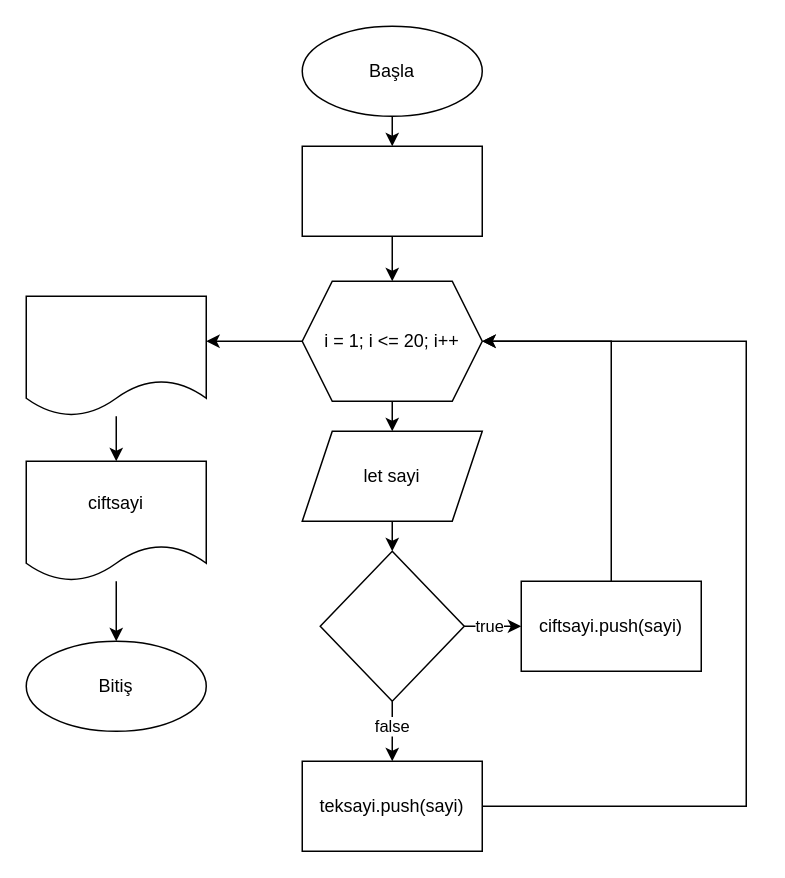
The diagram is 785 pixels wide and 878 high, and some of its shapes have lost their labels. Each missing label, with the centre of its shape:
"let ciftsayi = [] let teksayi = []" goes at point (391, 190).
"sayi % 2 == 0" goes at point (391, 625).
"teksayi" goes at point (115, 355).
